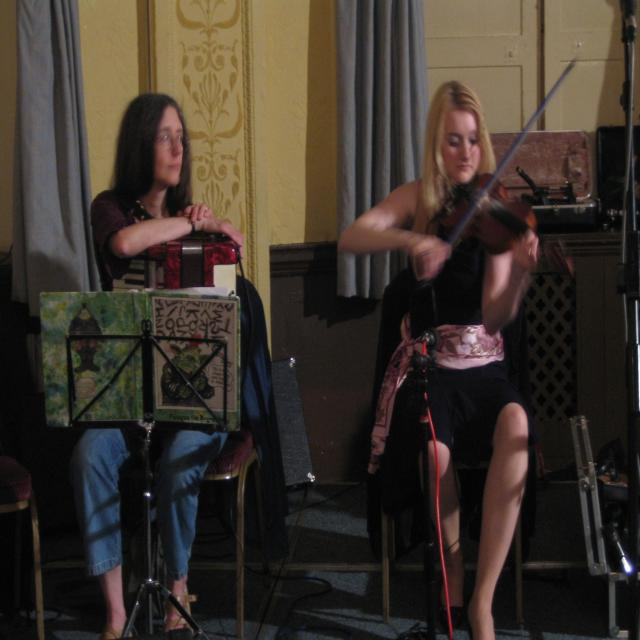violin: (434, 168, 578, 283)
